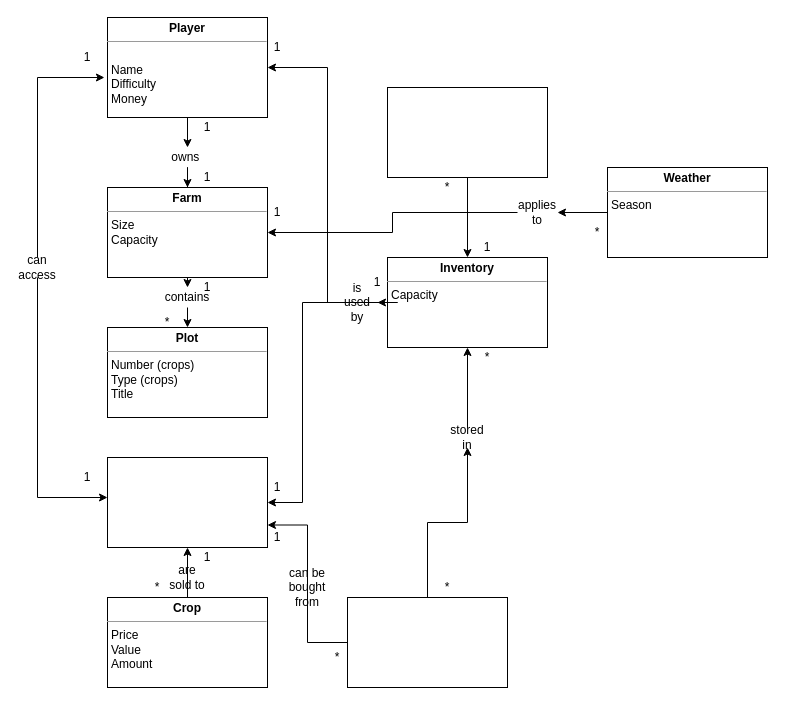
This 785x705 diagram has some shape labels left out. The shapes that lost their labels are listed below. From the top down, each one's centre as x and y in pixels, then its label:
At [467,132]: "Tools Price Durability".
At [187,502]: "Market Items for Sale".
At [427,642]: "Seeds Price Value Amount Growth".
